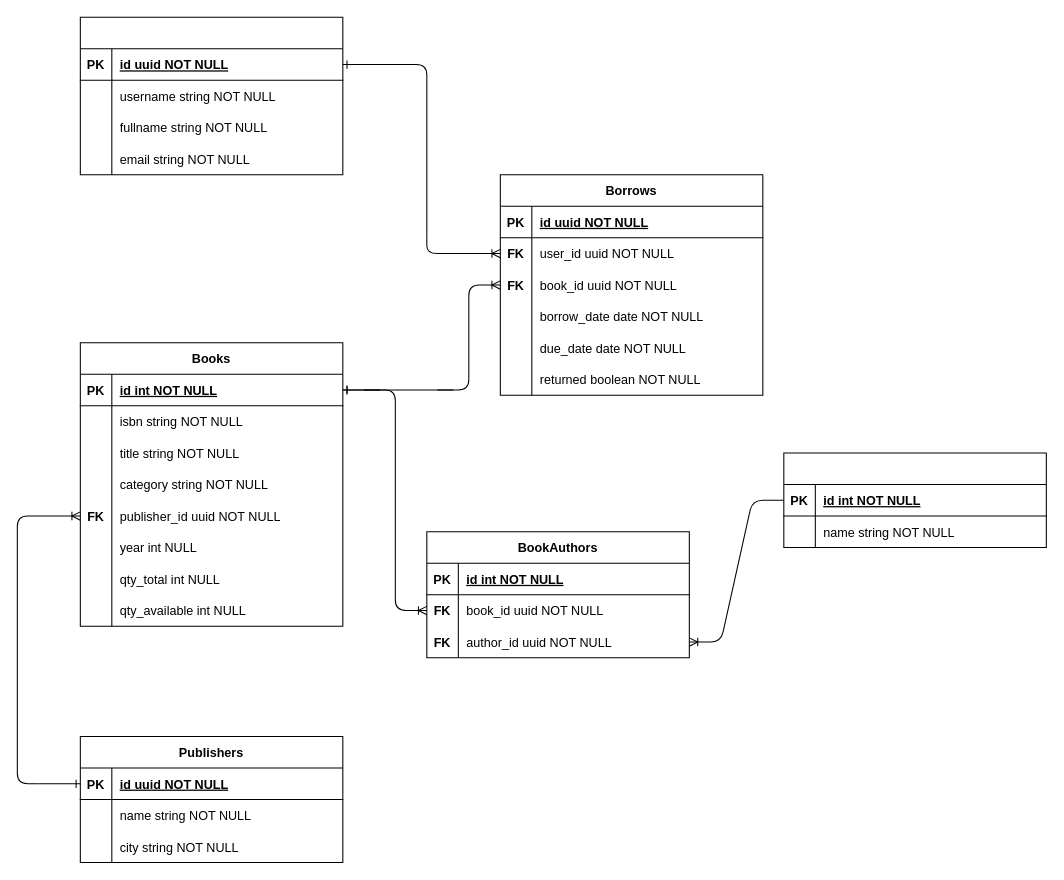
Some shapes in this 1064 by 880 pixel diagram are drawn without their labels. The shapes that lost their labels are listed below. From the top down, each one's box as (x1, y1, x2, y2) in pixels, then its label:
(79, 16, 343, 175): Users
(783, 452, 1046, 548): Authors
